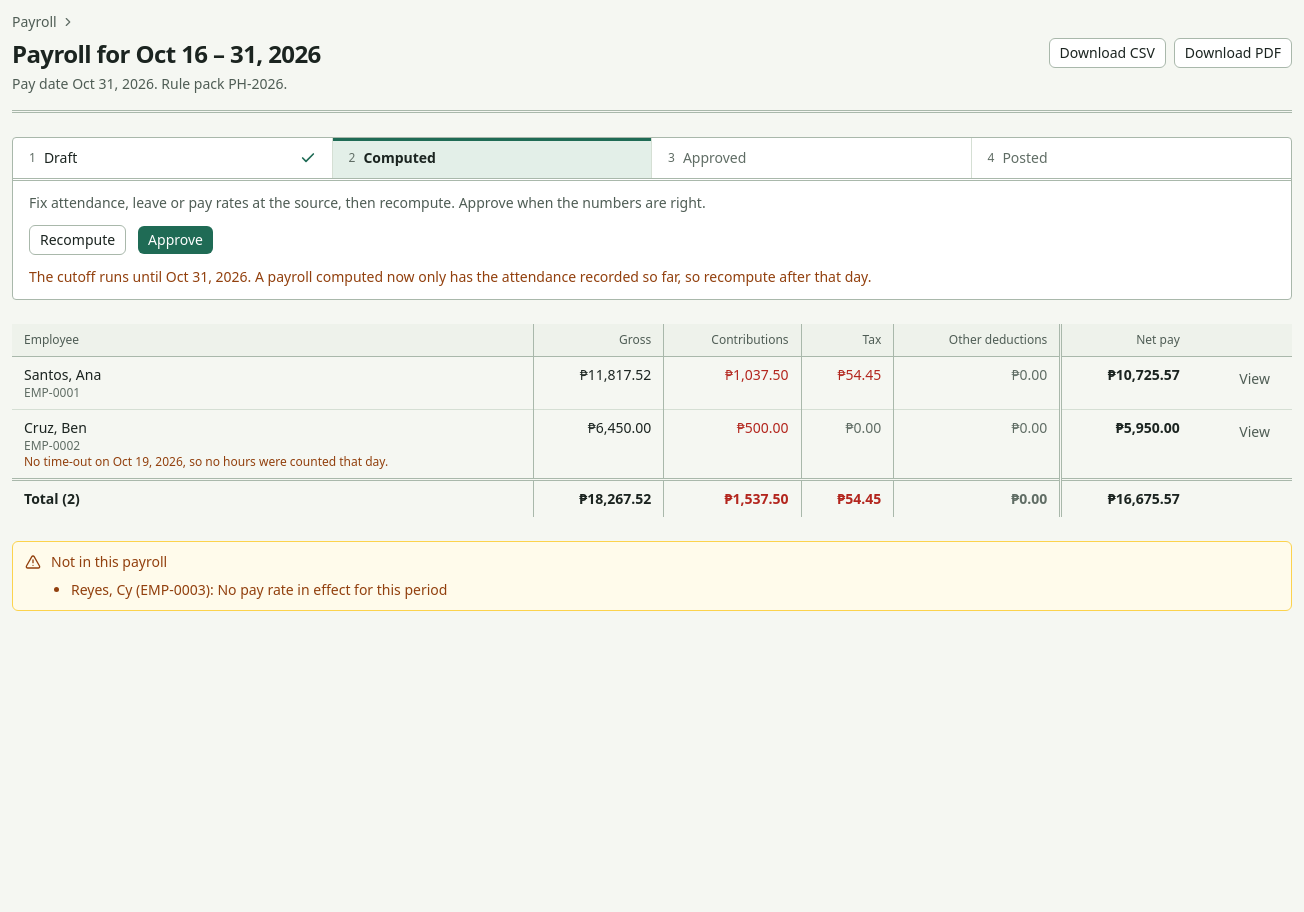
Test: RegisterPage › approves a computed period, then posts it after confirming
Click the button "Approve": (176, 240) left=138, top=226, right=213, bottom=254
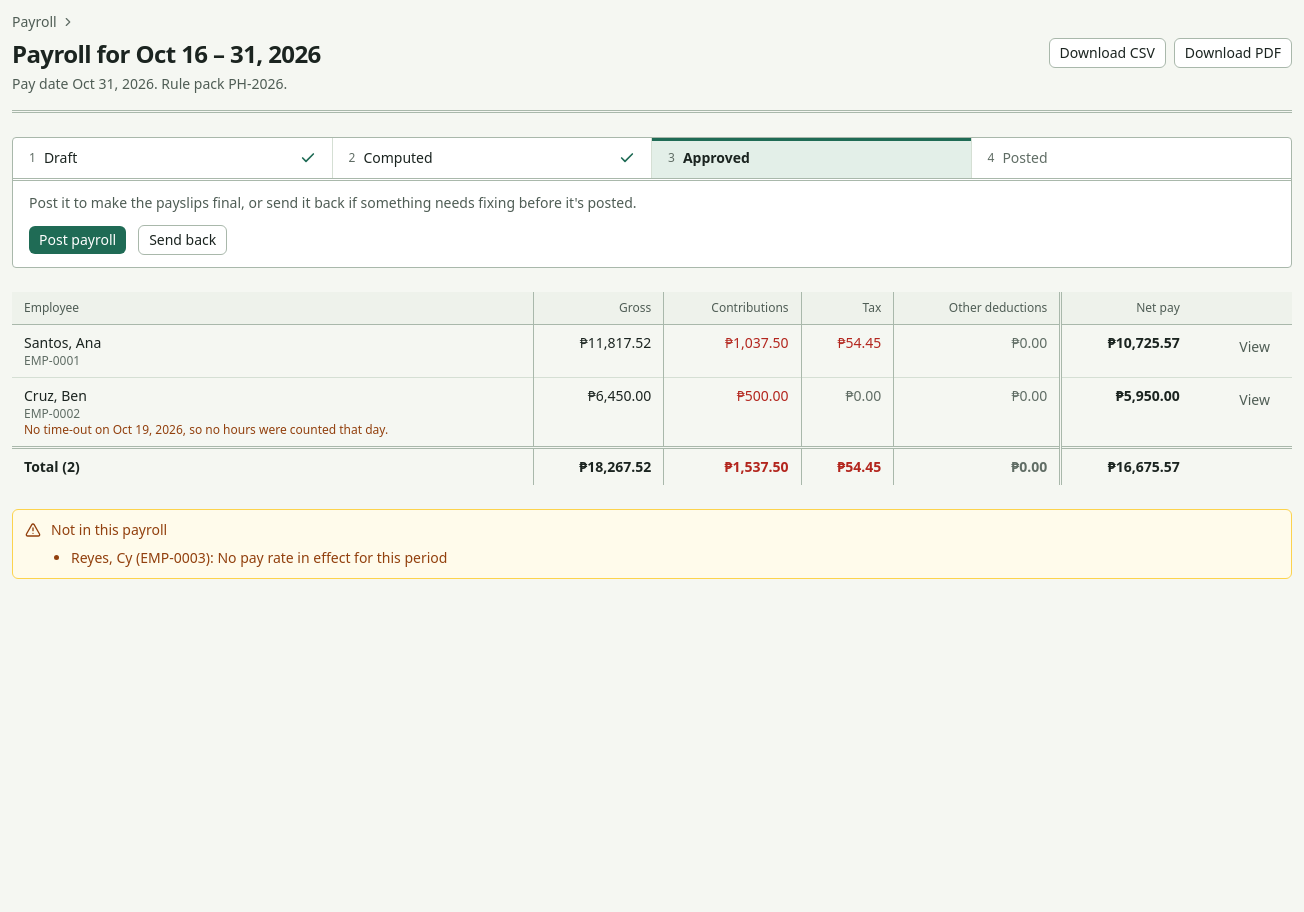
Expected: the button "Post payroll" is shown
Click the button "Post payroll": (78, 240) left=29, top=226, right=126, bottom=254
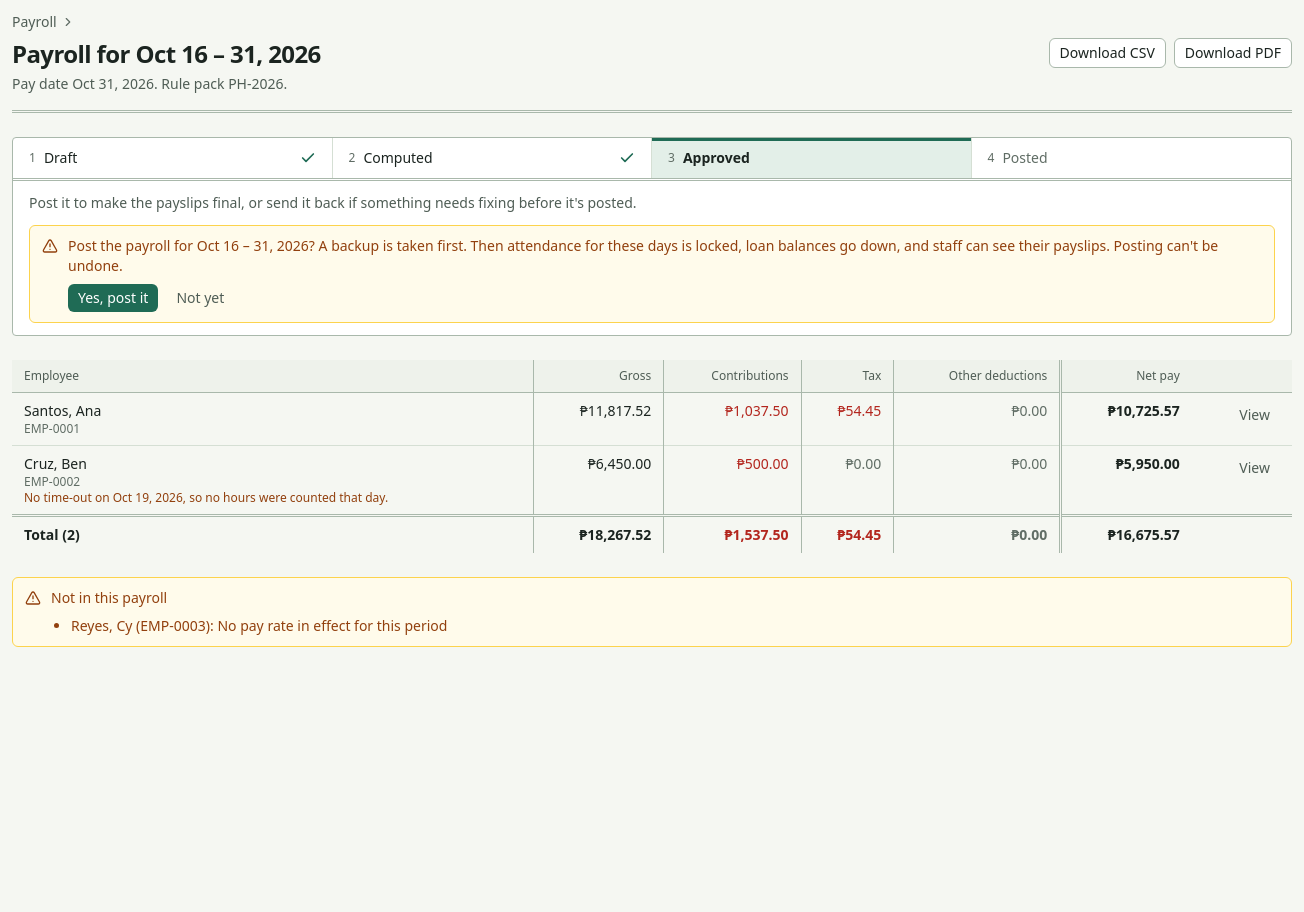
Expected: the text "can't be undone" is shown, left=68, top=236, right=1218, bottom=275
Click the button "Not yet": (200, 298) left=166, top=284, right=234, bottom=312
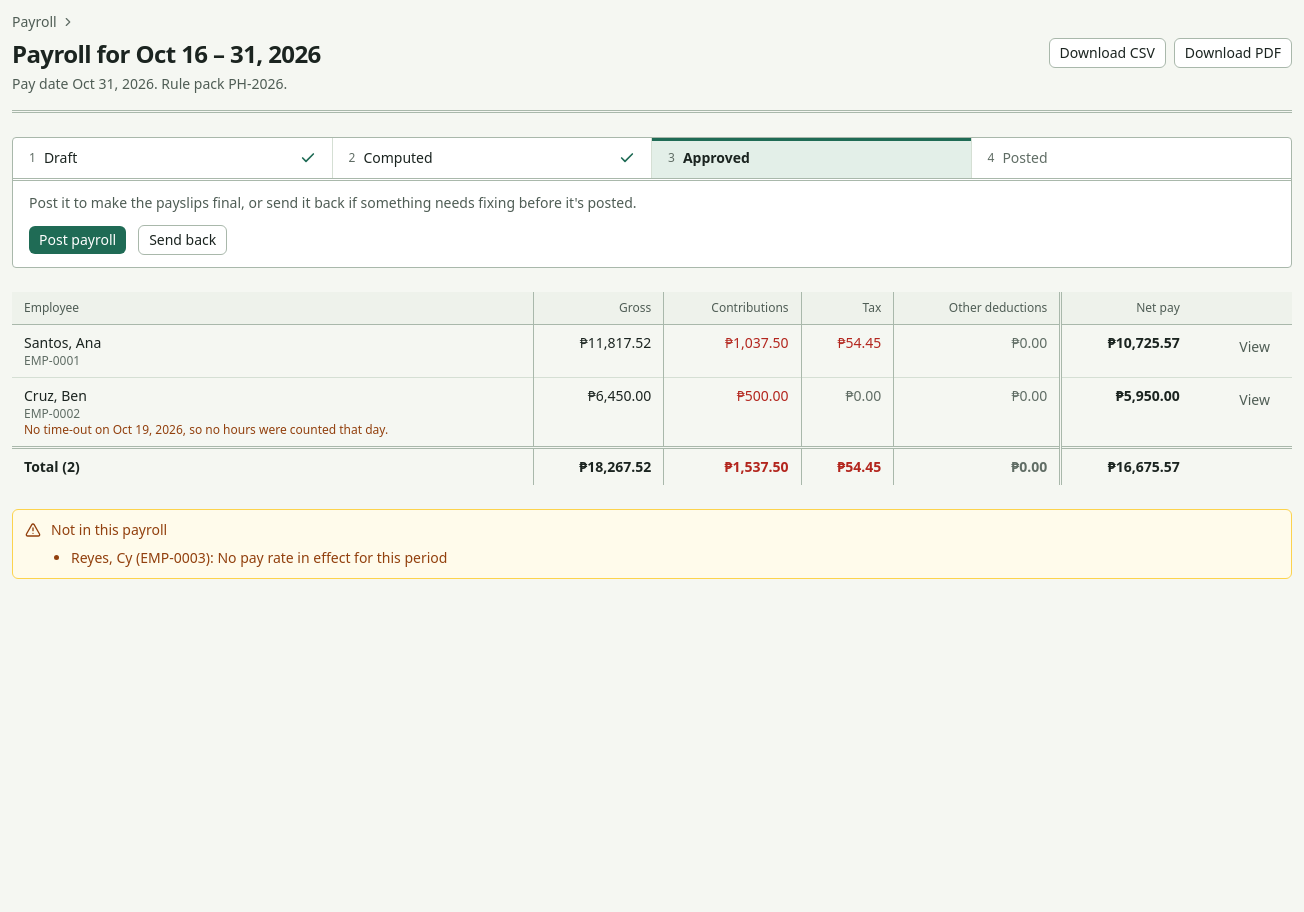
Click the button "Post payroll": (78, 240) left=29, top=226, right=126, bottom=254
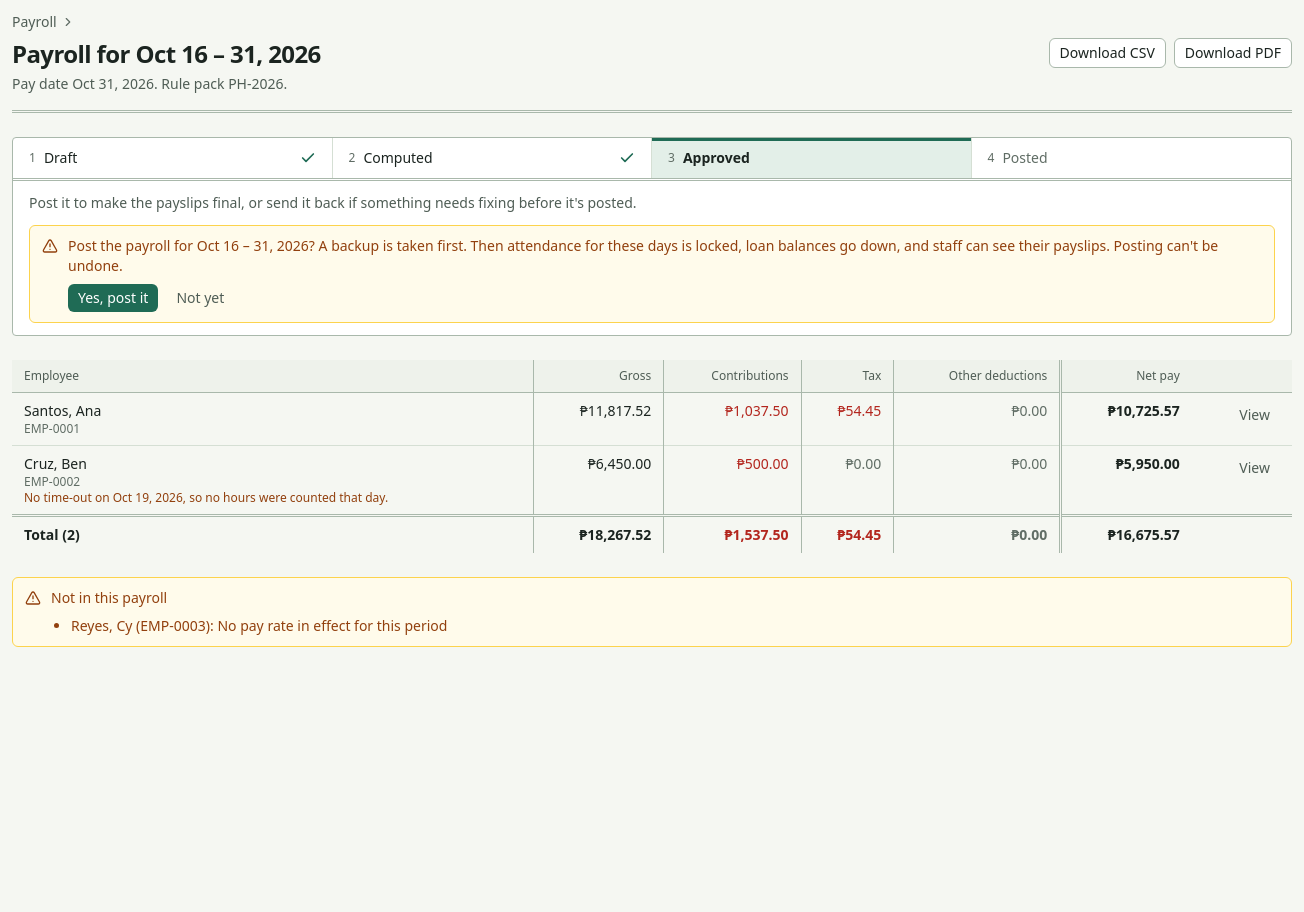
Click the button "Yes, post it": (113, 298) left=68, top=284, right=158, bottom=312
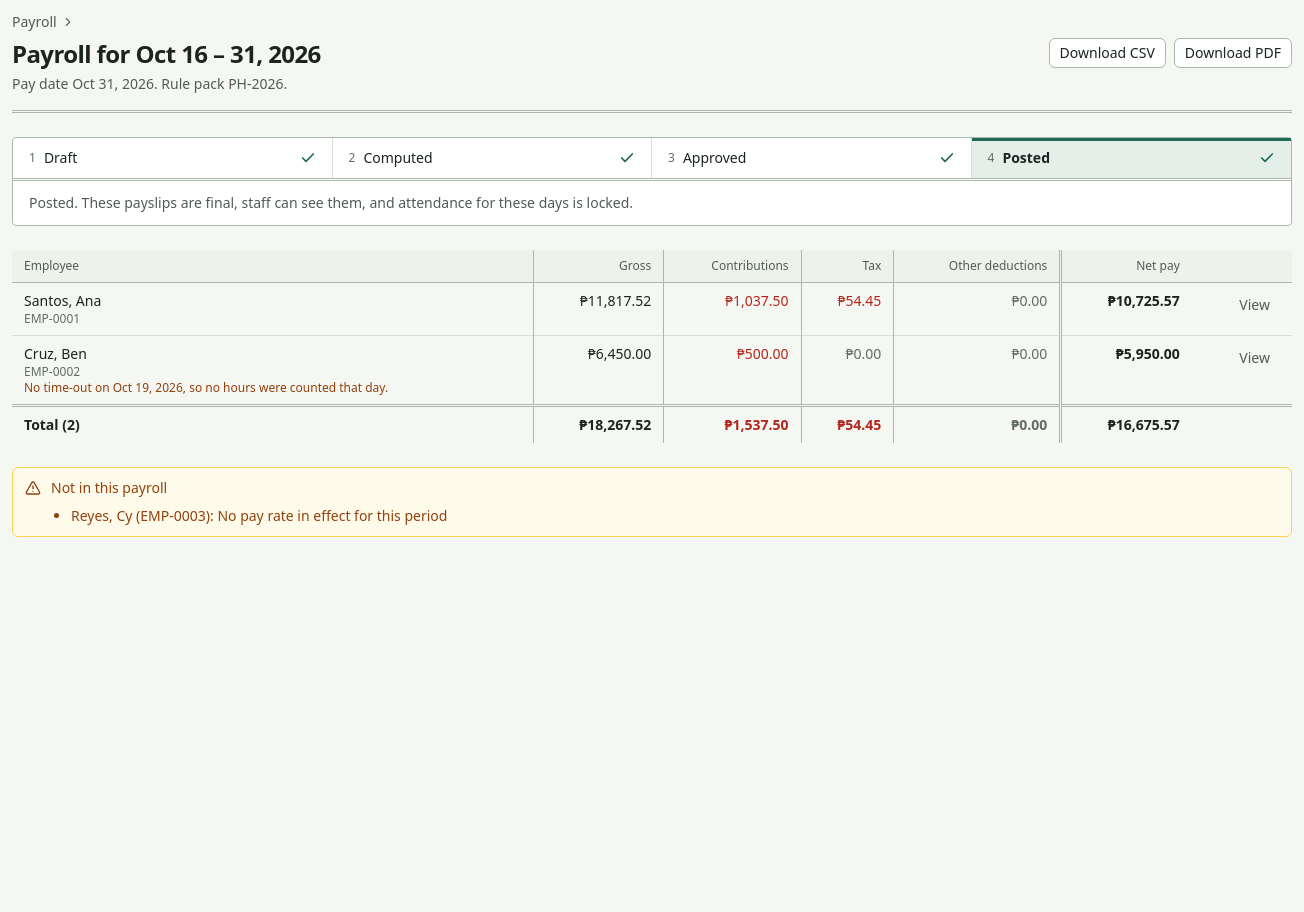
Expected: the text "Posted. These payslips are final" is shown, left=29, top=193, right=633, bottom=212
